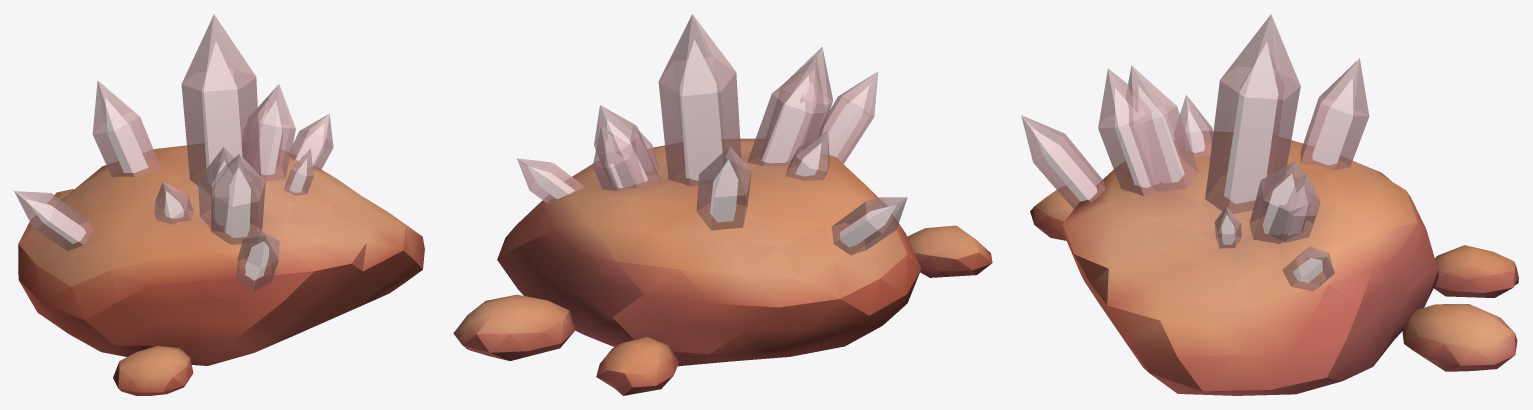
File: amber_crystal_cluster_b.glb
3 renders of one model, left to right at view 1: azimuth 30°, elevation 25°; view 2: azimuth 150°, elevation 25°; view 3: azimuth 270°, elevation 25°, orthographic. The views are drawn at different scales.
Parts seen in each view (by area): view 1: amber_crystal_cluster_b; view 2: amber_crystal_cluster_b; view 3: amber_crystal_cluster_b.
Boxes of the visible parts, x1,y1,x2,y2 form: amber_crystal_cluster_b: (14,14,424,395); amber_crystal_cluster_b: (453,14,992,395); amber_crystal_cluster_b: (1021,14,1518,395).
Size of the model in its own units: 2.07 by 1.43 by 2.13.
